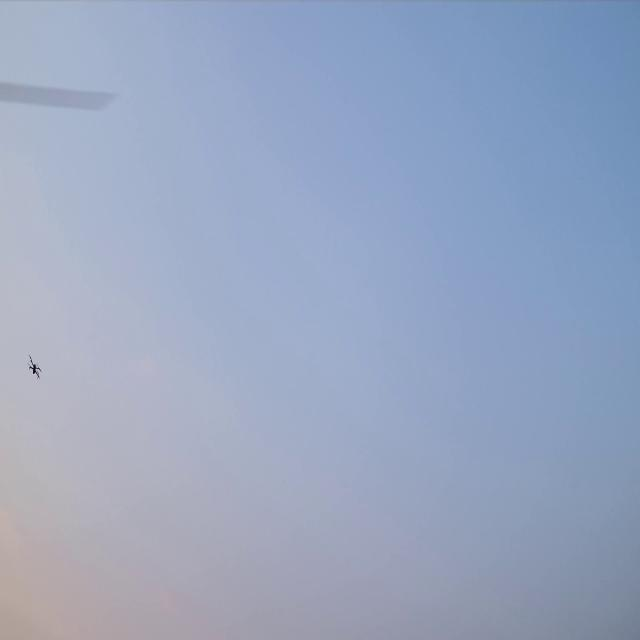UAV: (29, 358, 40, 377)
